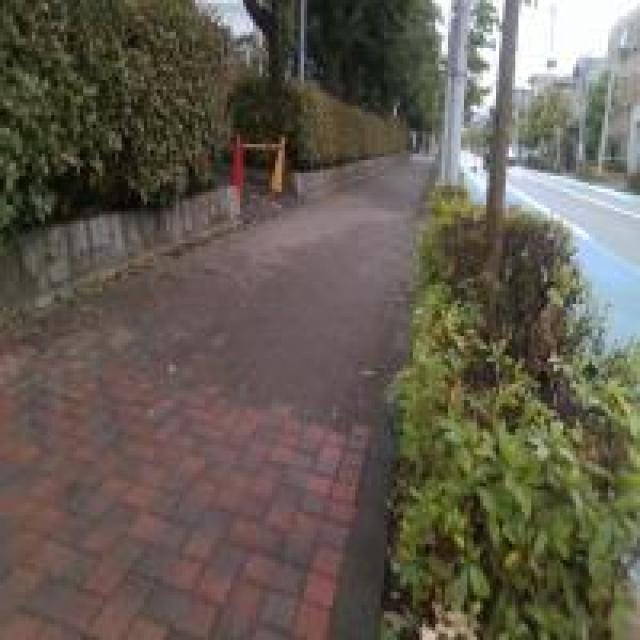Obstacle: (384, 186, 639, 639), (439, 0, 470, 183)
Road: (507, 166, 639, 338), (461, 150, 485, 199)
Sidewalk: (0, 158, 421, 639)
